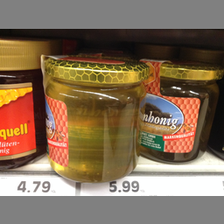honey: (43, 53, 143, 194), (142, 59, 221, 170)
